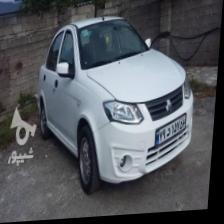plate: (156, 113, 190, 148)
